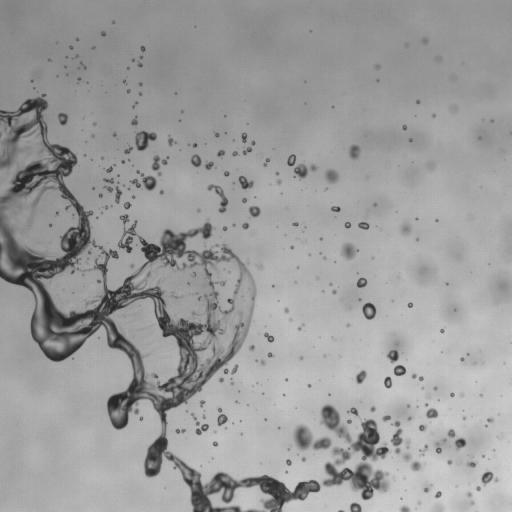droplet: (130, 171, 156, 190), (135, 131, 156, 151), (191, 413, 208, 435), (294, 163, 317, 179), (151, 155, 168, 175), (340, 243, 357, 259), (481, 469, 498, 485), (362, 302, 376, 319), (238, 176, 253, 189), (325, 169, 338, 183), (349, 145, 360, 159), (426, 407, 438, 419), (387, 350, 398, 363), (355, 370, 366, 383), (190, 154, 201, 166), (454, 438, 466, 449), (410, 461, 423, 471), (249, 206, 260, 217), (400, 223, 410, 234), (356, 277, 367, 287), (394, 365, 405, 375), (349, 502, 361, 511), (264, 332, 274, 342), (58, 113, 67, 124), (347, 407, 358, 416), (287, 154, 295, 166), (431, 504, 444, 511), (119, 214, 129, 223), (422, 483, 432, 492), (384, 376, 391, 388), (420, 445, 428, 455), (358, 222, 369, 229), (402, 453, 411, 461), (466, 460, 476, 467), (435, 442, 441, 453), (124, 146, 132, 154), (205, 161, 213, 169), (447, 429, 455, 437), (168, 136, 175, 145), (243, 147, 251, 154), (217, 150, 225, 157), (241, 132, 246, 142), (400, 506, 410, 511), (123, 202, 130, 209), (419, 424, 426, 431), (131, 117, 137, 125), (382, 415, 390, 421), (104, 178, 113, 183), (331, 206, 340, 211), (427, 163, 434, 169), (242, 222, 248, 229), (435, 491, 441, 497), (345, 222, 350, 228), (286, 459, 291, 465), (140, 46, 145, 51), (224, 171, 229, 176), (54, 211, 59, 216), (249, 345, 254, 350), (268, 352, 273, 357), (370, 406, 375, 411), (447, 459, 452, 464), (284, 307, 288, 313), (200, 400, 204, 406), (487, 418, 493, 422), (101, 31, 105, 36), (423, 38, 427, 43), (214, 133, 219, 137), (232, 151, 237, 155), (277, 179, 281, 184), (293, 222, 298, 226), (332, 289, 336, 294), (408, 302, 412, 307), (347, 419, 351, 424), (213, 441, 217, 446), (476, 486, 480, 491), (467, 492, 471, 497), (138, 62, 142, 66), (402, 125, 406, 129), (251, 141, 255, 145), (242, 198, 246, 202), (223, 226, 227, 230), (258, 265, 262, 269), (460, 357, 464, 361), (261, 360, 265, 364), (219, 378, 223, 382), (433, 386, 437, 390), (426, 394, 430, 398), (301, 457, 305, 461), (470, 501, 474, 505), (69, 45, 72, 49), (375, 65, 379, 68), (193, 143, 196, 147), (160, 190, 163, 194), (440, 329, 443, 333), (450, 393, 454, 396), (127, 89, 130, 92), (416, 100, 419, 103), (453, 106, 456, 109), (275, 172, 278, 175), (99, 194, 102, 197), (49, 224, 52, 227), (130, 264, 133, 267), (346, 323, 349, 326), (460, 393, 463, 396), (139, 417, 142, 420), (408, 417, 411, 420), (438, 56, 440, 60), (104, 206, 108, 208), (78, 77, 80, 80), (139, 83, 142, 85), (432, 114, 435, 116), (113, 133, 115, 136), (409, 139, 412, 141), (122, 160, 124, 163), (290, 246, 293, 248), (150, 324, 153, 326), (308, 384, 310, 387), (425, 403, 427, 406), (407, 404, 409, 407), (463, 416, 465, 419), (81, 63, 83, 65), (93, 122, 95, 124), (132, 196, 134, 198), (374, 203, 376, 205), (198, 209, 200, 211), (88, 251, 90, 253), (228, 271, 230, 273), (329, 283, 331, 285), (300, 356, 302, 358), (471, 455, 473, 457)
ligament: (0, 94, 390, 511), (207, 184, 228, 212), (390, 421, 402, 454), (104, 185, 122, 203), (217, 408, 227, 426), (411, 373, 423, 381), (106, 165, 114, 172), (263, 158, 269, 166), (175, 429, 185, 433), (297, 324, 303, 330), (406, 439, 410, 448), (132, 102, 137, 107), (338, 510, 344, 511)
